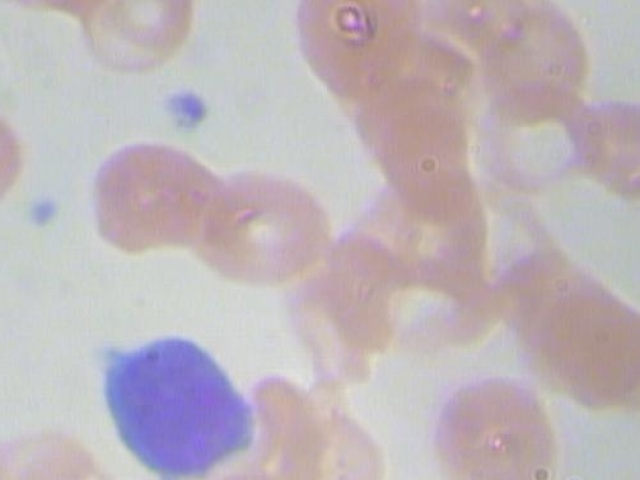Platelets: (155, 83, 217, 137), (18, 181, 79, 235)
RBC: (77, 129, 232, 269), (325, 60, 480, 200), (191, 153, 345, 293), (266, 223, 420, 363), (476, 235, 630, 375), (416, 364, 571, 480), (468, 77, 602, 194), (533, 275, 640, 415), (287, 0, 428, 95), (258, 395, 413, 480), (560, 82, 640, 199), (429, 0, 545, 66), (88, 0, 213, 52), (0, 90, 31, 207)
WBC: (63, 324, 274, 480)
